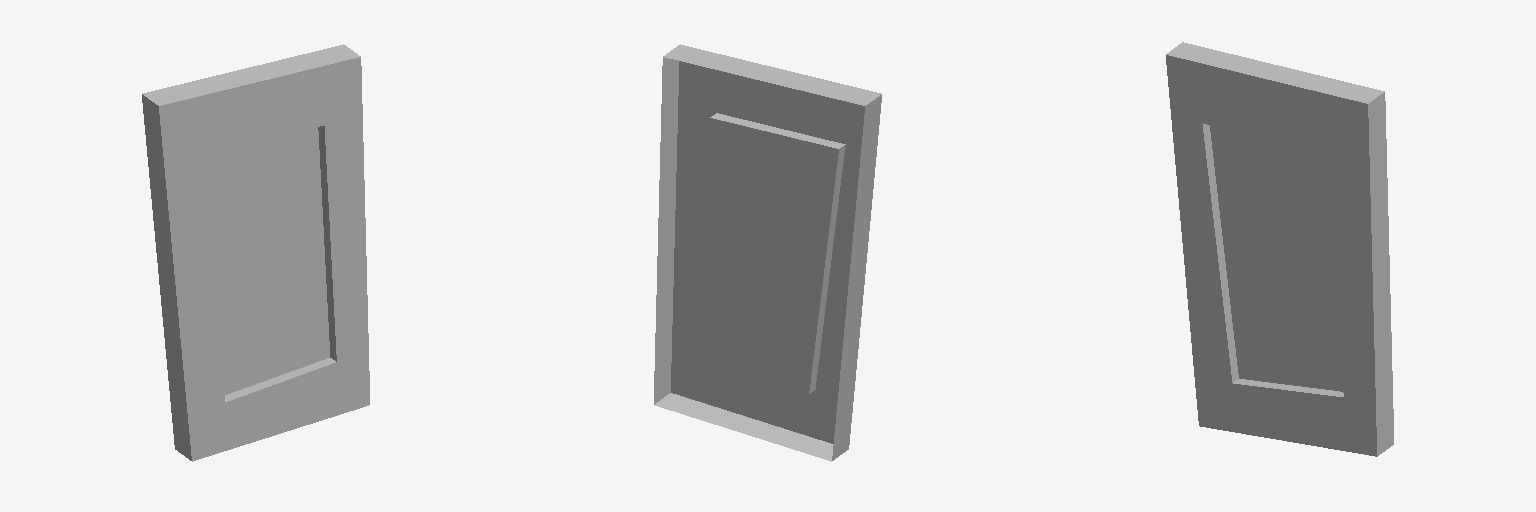
File: frameSmall.obj
The picture shows the model from 3 angles: view 1: azimuth 30°, elevation 25°; view 2: azimuth 150°, elevation 25°; view 3: azimuth 330°, elevation 25°; orthographic projection.
Visible parts, largest first — view 1: pCube7; view 2: pCube7; view 3: pCube7.
Part boxes in pixels (left/top/right/bottom): pCube7: left=142, top=44, right=369, bottom=461; pCube7: left=654, top=44, right=881, bottom=461; pCube7: left=1166, top=42, right=1393, bottom=456.
Size of the model in its own units: 13.64 by 22.38 by 1.91.